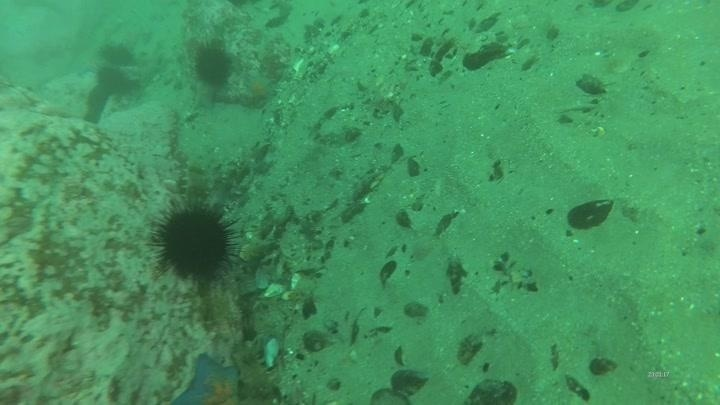echinus: (150, 200, 240, 284), (191, 40, 235, 90), (94, 64, 134, 98), (98, 40, 137, 68)
holothurian: (230, 341, 282, 404), (175, 157, 213, 210)
starfish: (170, 351, 245, 404), (241, 69, 279, 104)
